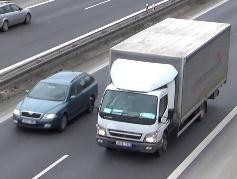Car: (12, 71, 98, 132), (0, 3, 32, 32)
Truck: (97, 18, 230, 155)
